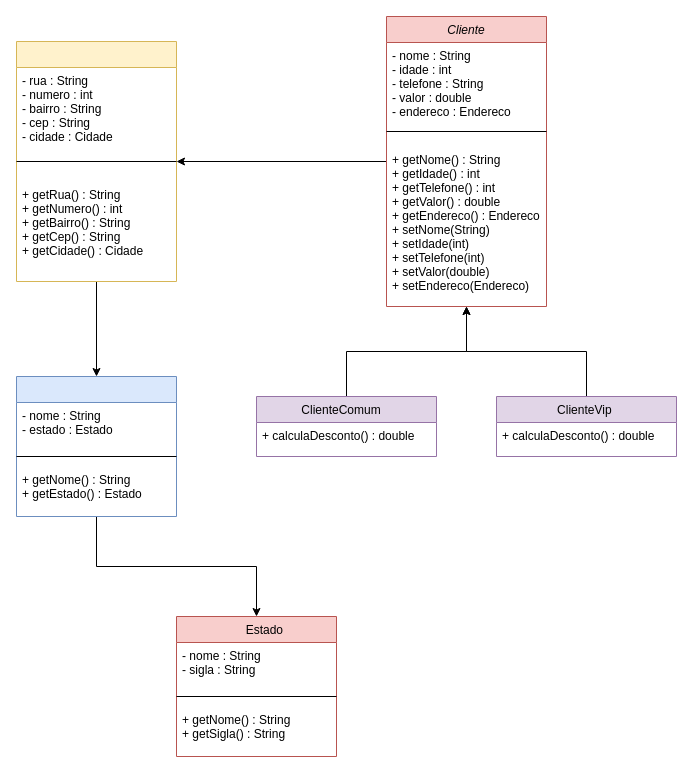
This 693x773 diagram has some shape labels left out. Here are the shapes that lost their labels. From the top down, the box of each, then its label:
(16, 40, 176, 282): Endereco
(16, 376, 176, 516): Cidade
